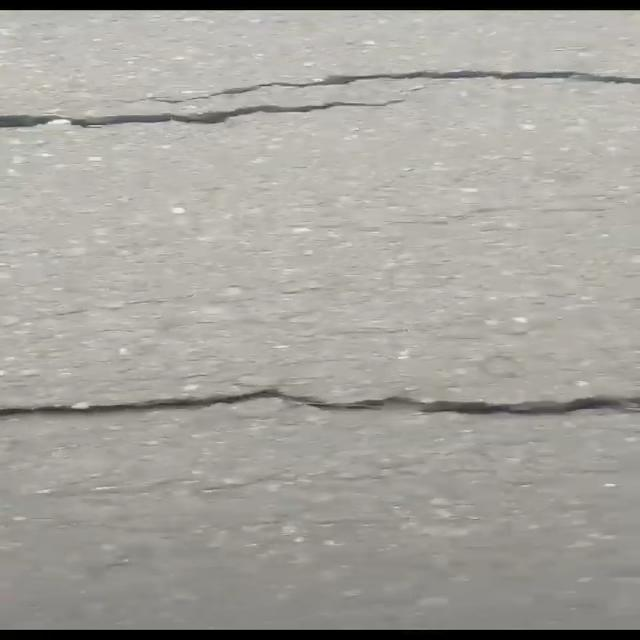Melintang: (0, 58, 640, 138), (0, 373, 640, 433)
